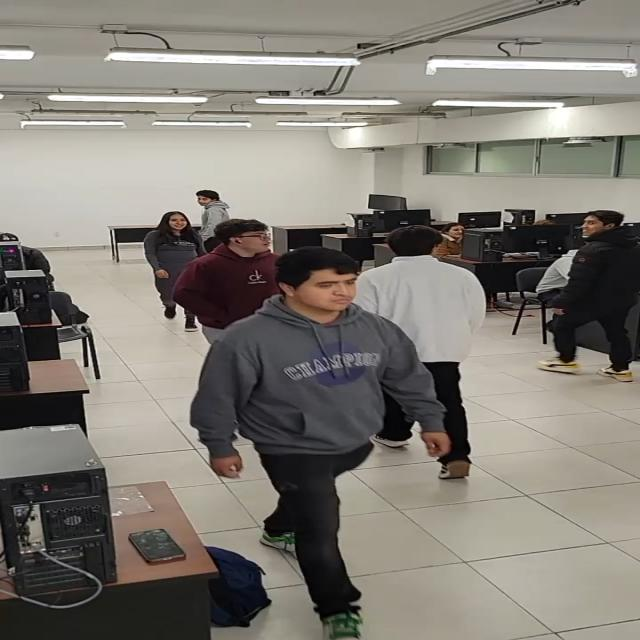Persona: (178, 247, 455, 640), (367, 224, 498, 482), (537, 204, 640, 390), (190, 218, 280, 310), (140, 198, 193, 328)
